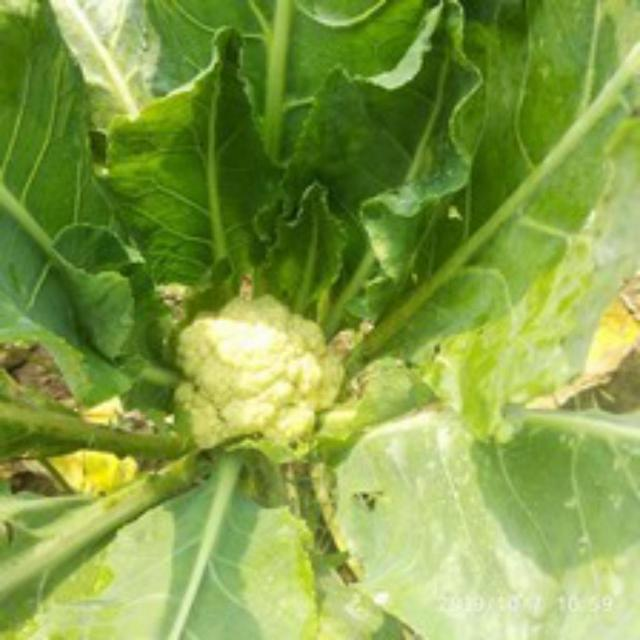cauliflower: (172, 280, 354, 470)
